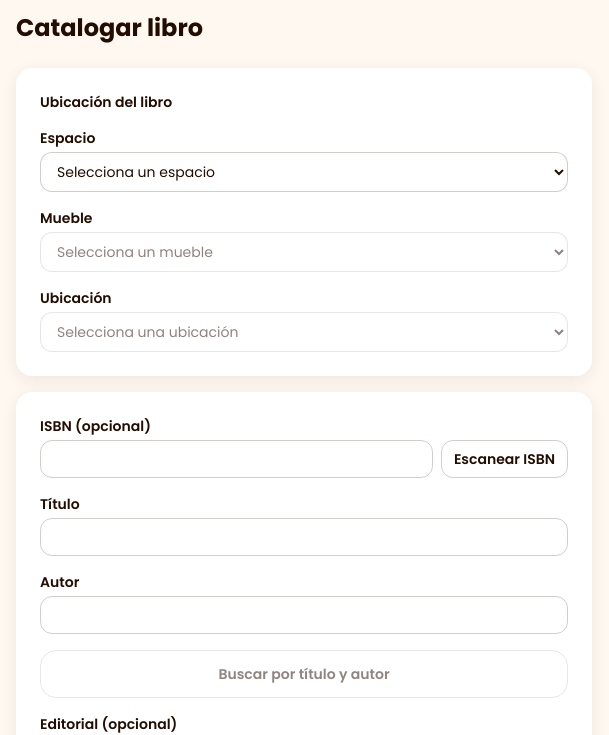
Scenario: CatalogarLibroComponent › búsqueda de candidatos por título/autor (sin ISBN) › muestra un mensaje neutral cuando la búsqueda no encuentra candidatos
In the field with id "autor": (304, 615) [40, 596, 568, 634], type "autor sin resultados"
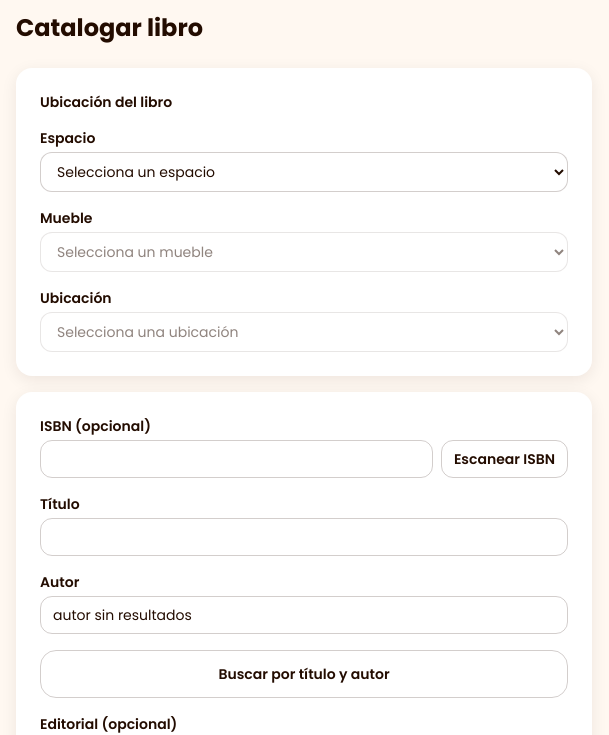
Click the button "Buscar por título y autor": (304, 674) [40, 650, 568, 698]
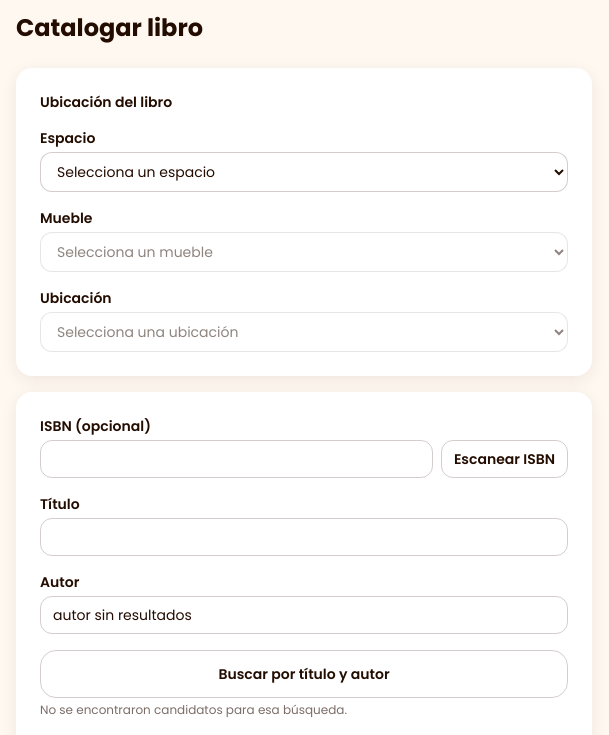
Result: the text "No se encontraron candidatos" is shown at [40, 701, 347, 718]
